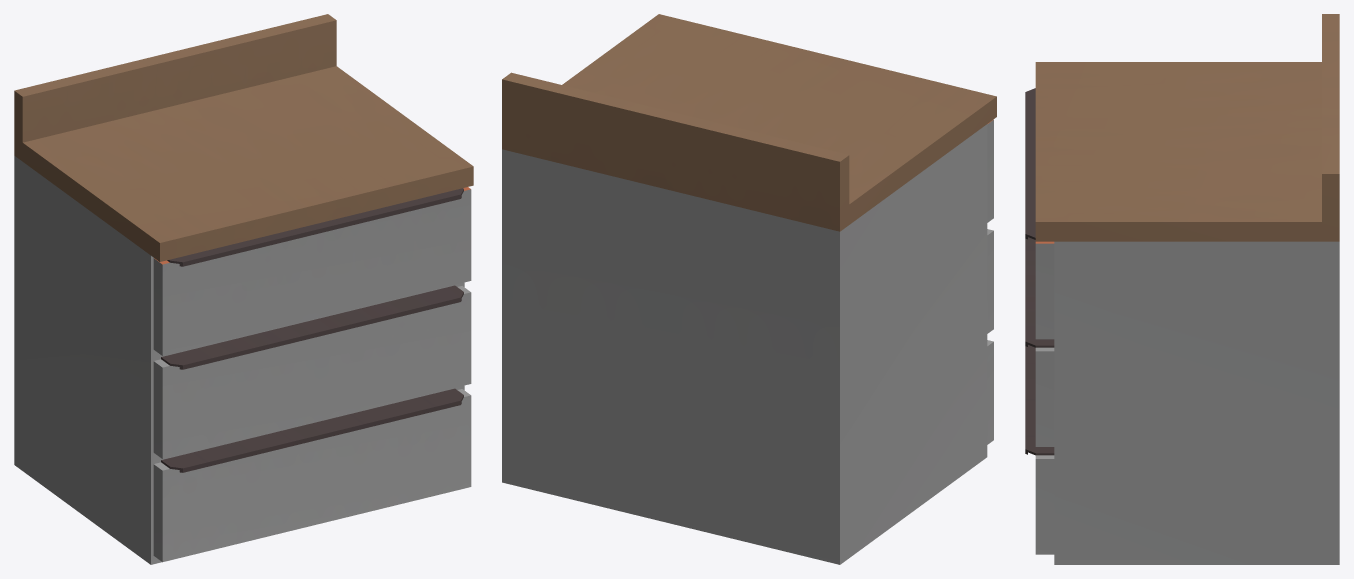
Rendered from KitchenBlock_B.fbx.
3 renders of one model, left to right at view 1: azimuth 30°, elevation 25°; view 2: azimuth 150°, elevation 25°; view 3: azimuth 270°, elevation 25°, orthographic. The views are drawn at different scales.
Parts seen in each view (by area): view 1: Kit_1_Block_B; view 2: Kit_1_Block_B; view 3: Kit_1_Block_B.
Boxes of the visible parts, <box> form: Kit_1_Block_B: <box>14,14,473,564</box>; Kit_1_Block_B: <box>502,14,996,564</box>; Kit_1_Block_B: <box>1025,14,1339,564</box>.
Bounding box in the file's own units: 82.46 × 93.97 × 68.51.
